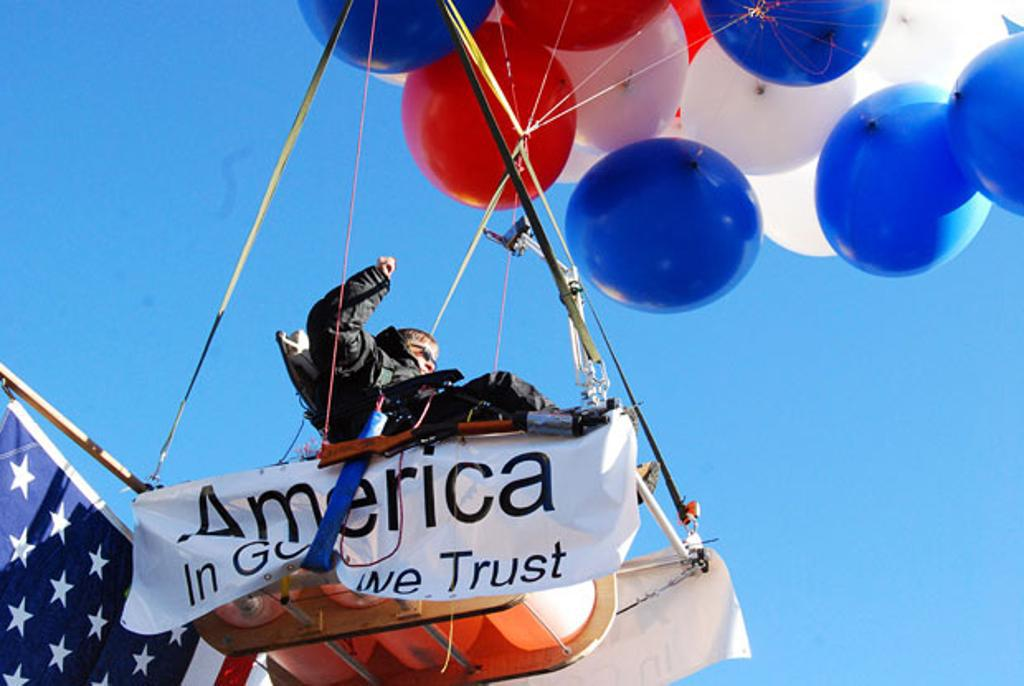face: (400, 335, 439, 383)
